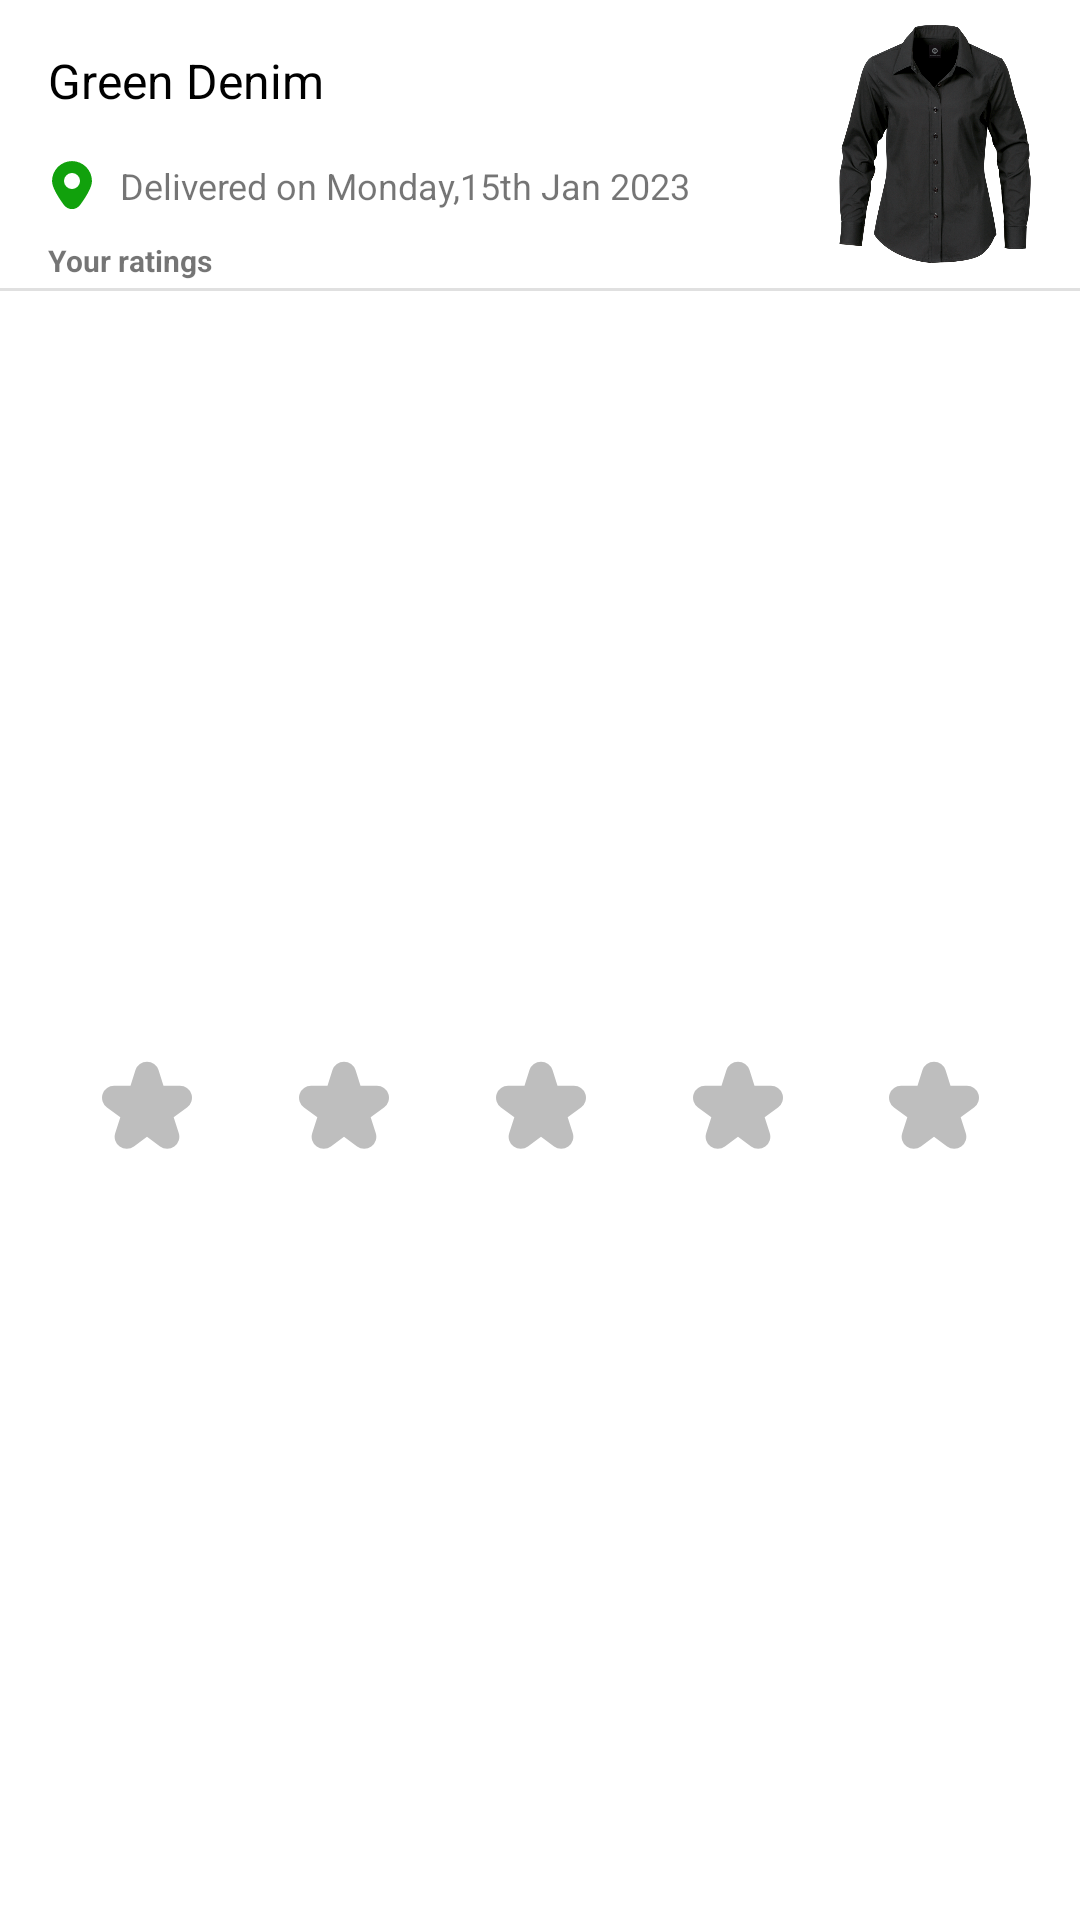

Where icons sit on this 1080*1920 app screen, as (x1, y1, x2, y2):
location: (52, 161, 92, 209)
star: (102, 1062, 192, 1149), (299, 1062, 389, 1149), (496, 1062, 586, 1149), (693, 1062, 783, 1149), (889, 1062, 979, 1149)
